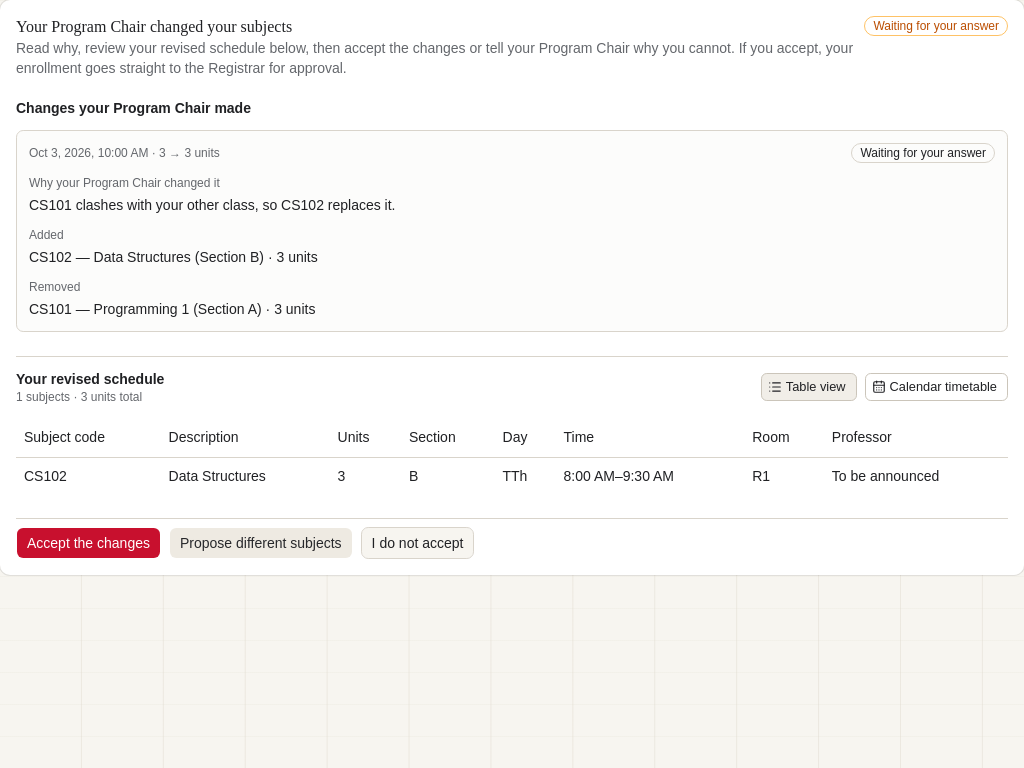
EnrollmentRevisionReviewCard (the student's answer) › tells the student when the answer could not be saved
This screenshot has width=1024, height=768.
Click the button "Accept the changes": [88, 542] box [16,526,161,558]
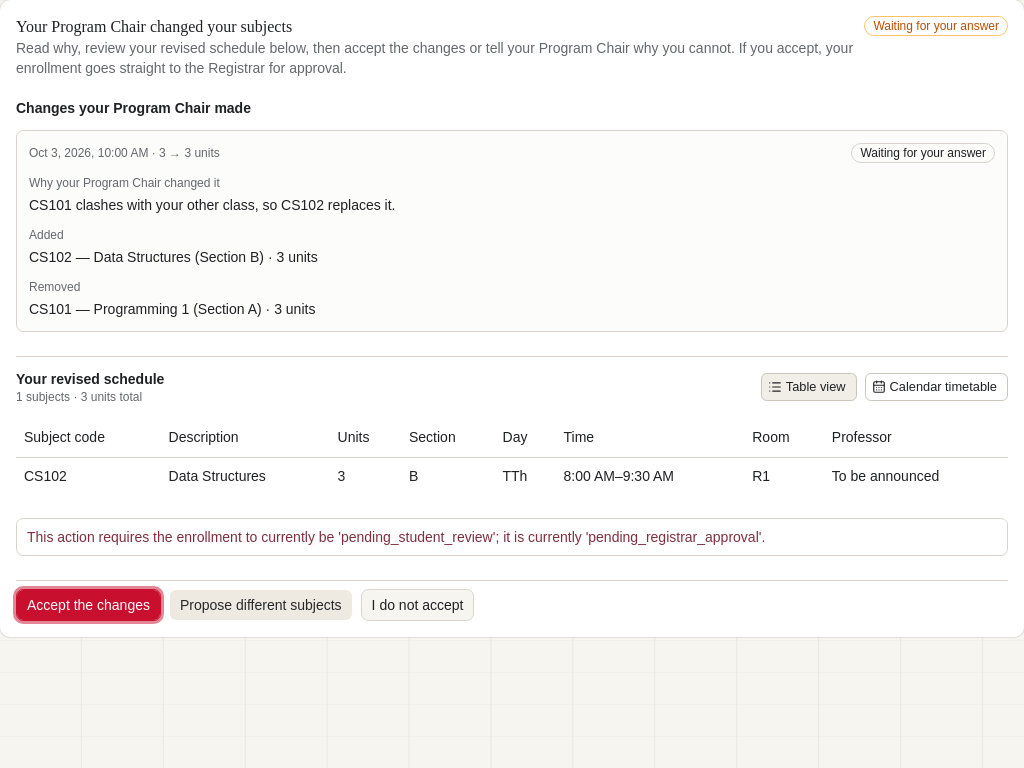
Now the text "currently 'pending_registrar_approval'" is shown, box [27,528,765,544]
